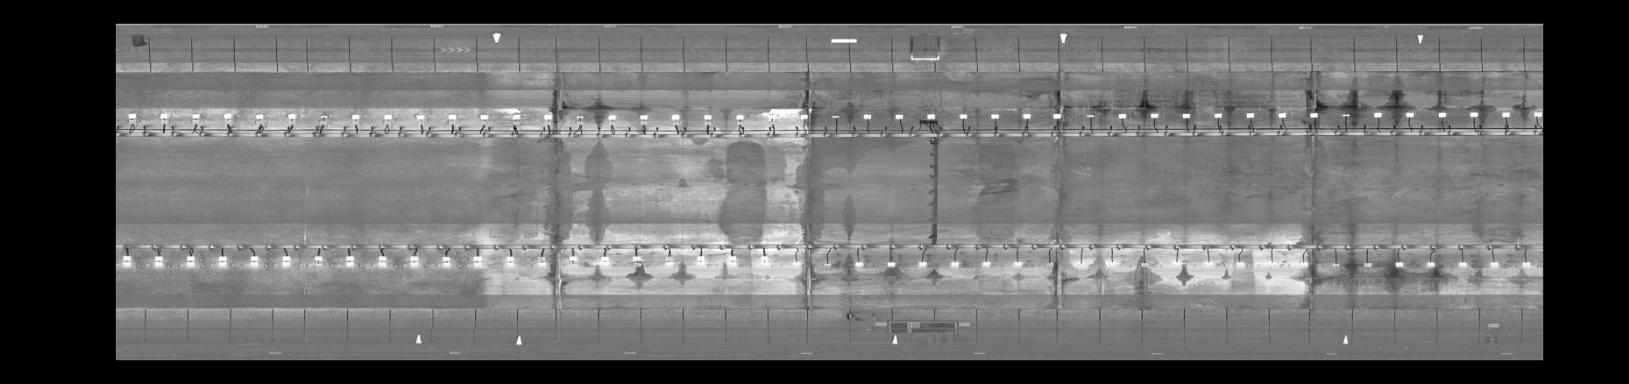light: (374, 252, 393, 271), (340, 254, 360, 270), (305, 253, 325, 269), (560, 254, 584, 267), (406, 253, 424, 269), (379, 108, 398, 122), (1516, 258, 1535, 272), (762, 110, 781, 124), (1177, 109, 1195, 124), (633, 110, 650, 125), (1040, 258, 1059, 272), (540, 110, 559, 124), (276, 254, 295, 268), (501, 255, 520, 268), (149, 255, 168, 268), (1453, 257, 1470, 272), (659, 254, 675, 269), (437, 255, 454, 270), (754, 255, 772, 269), (468, 255, 485, 269), (1358, 259, 1377, 272), (244, 254, 263, 267), (595, 255, 615, 267), (315, 110, 335, 121), (123, 110, 142, 121), (602, 110, 618, 124), (532, 256, 549, 270), (946, 259, 964, 272), (185, 111, 206, 121), (474, 112, 492, 124), (1241, 108, 1256, 122), (693, 253, 707, 268), (1401, 108, 1417, 121), (1305, 108, 1320, 121), (627, 254, 643, 268), (1273, 109, 1289, 121), (1230, 257, 1247, 270), (731, 111, 748, 124), (118, 255, 135, 268), (214, 255, 231, 268), (1421, 258, 1439, 270), (1389, 260, 1407, 272), (1103, 258, 1121, 270), (978, 258, 995, 270), (698, 112, 716, 124), (443, 110, 460, 121), (219, 112, 237, 124), (509, 111, 523, 126), (347, 110, 362, 124), (1338, 109, 1354, 121), (1327, 257, 1342, 270), (1134, 259, 1153, 270), (1070, 259, 1089, 270), (179, 254, 199, 264), (1049, 110, 1066, 121), (889, 110, 906, 121), (411, 112, 428, 124), (1112, 111, 1129, 121), (850, 259, 867, 270), (1009, 258, 1024, 270), (284, 110, 299, 121), (955, 110, 971, 120), (250, 112, 267, 122), (1467, 109, 1480, 121), (1498, 109, 1513, 120), (1370, 109, 1385, 120), (1488, 258, 1502, 270), (666, 113, 680, 125), (156, 110, 170, 121), (1146, 111, 1161, 121), (1169, 256, 1184, 267), (914, 260, 931, 270), (1436, 109, 1449, 120), (1020, 110, 1034, 121), (725, 254, 739, 266), (573, 112, 587, 124), (987, 111, 1002, 121), (1200, 258, 1218, 267), (1296, 259, 1311, 269), (1211, 111, 1225, 121), (884, 260, 898, 271), (1265, 258, 1280, 268), (1529, 109, 1542, 119), (819, 260, 834, 269), (924, 112, 939, 120), (860, 113, 876, 121), (794, 113, 809, 121), (787, 260, 802, 269), (1084, 112, 1097, 120), (829, 113, 843, 121)
